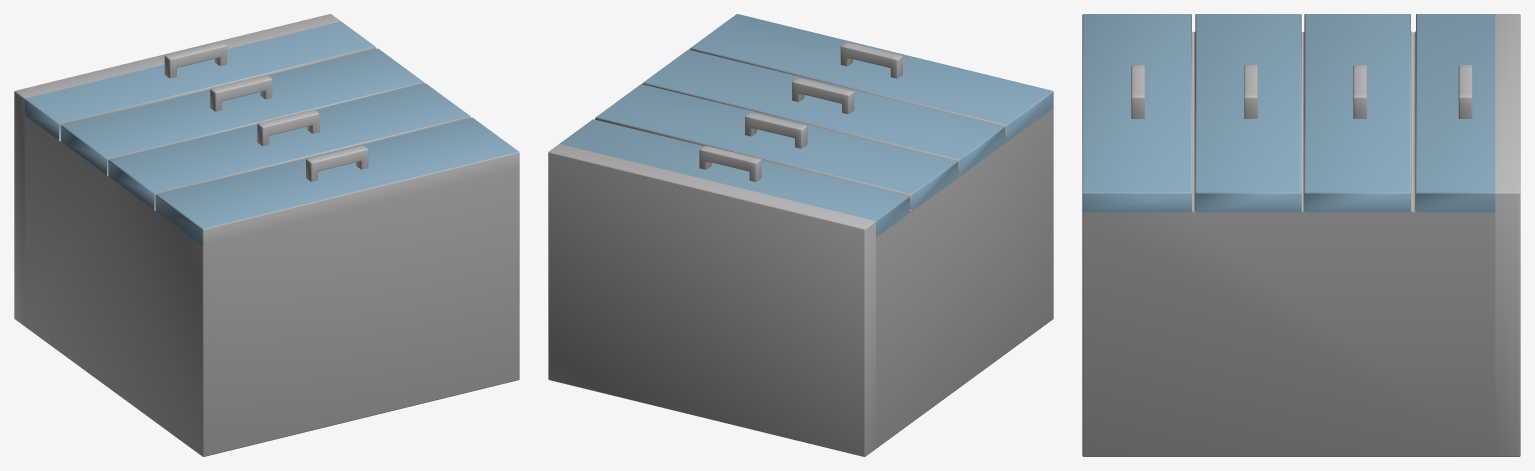
3 views of the same model, side by side, from view 1: azimuth 30°, elevation 25°; view 2: azimuth 150°, elevation 25°; view 3: azimuth 270°, elevation 25° (orthographic). The views are drawn at different scales.
Parts seen in each view (by area): view 1: Cube.004; view 2: Cube.004; view 3: Cube.004.
Boxes of the visible parts, left/top/right/bottom form: Cube.004: left=14, top=14, right=519, bottom=456; Cube.004: left=548, top=14, right=1053, bottom=456; Cube.004: left=1082, top=14, right=1520, bottom=456.
Size of the model in its own units: 90 by 67.18 by 93.
